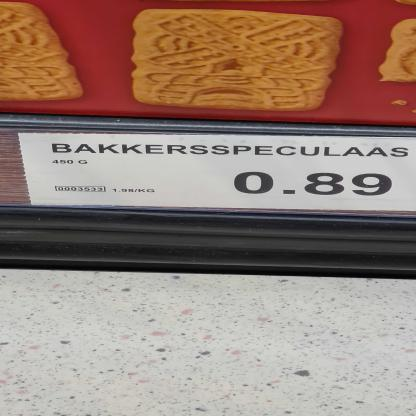prtg: (19, 134, 416, 213)
